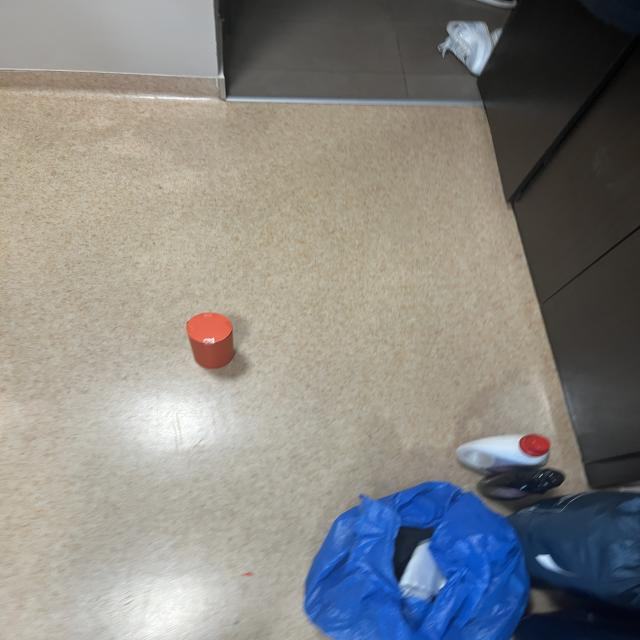przeszkoda: (186, 313, 234, 369)
